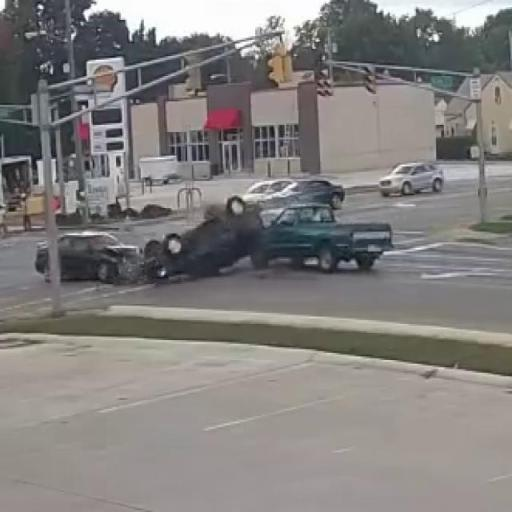小汽车: (263, 172, 347, 210), (378, 160, 446, 196)
小汽车撞小汽车: (149, 204, 395, 278), (36, 212, 257, 290)
